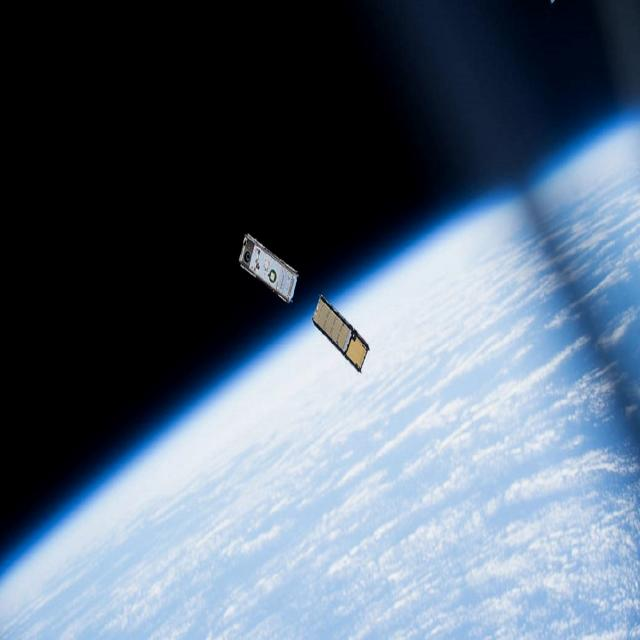medium_debris: (228, 214, 384, 397)
